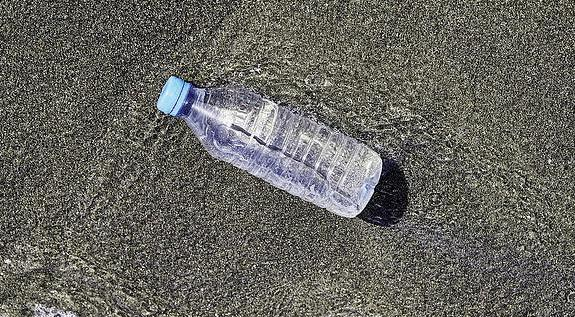Plastic: (154, 72, 385, 219)
